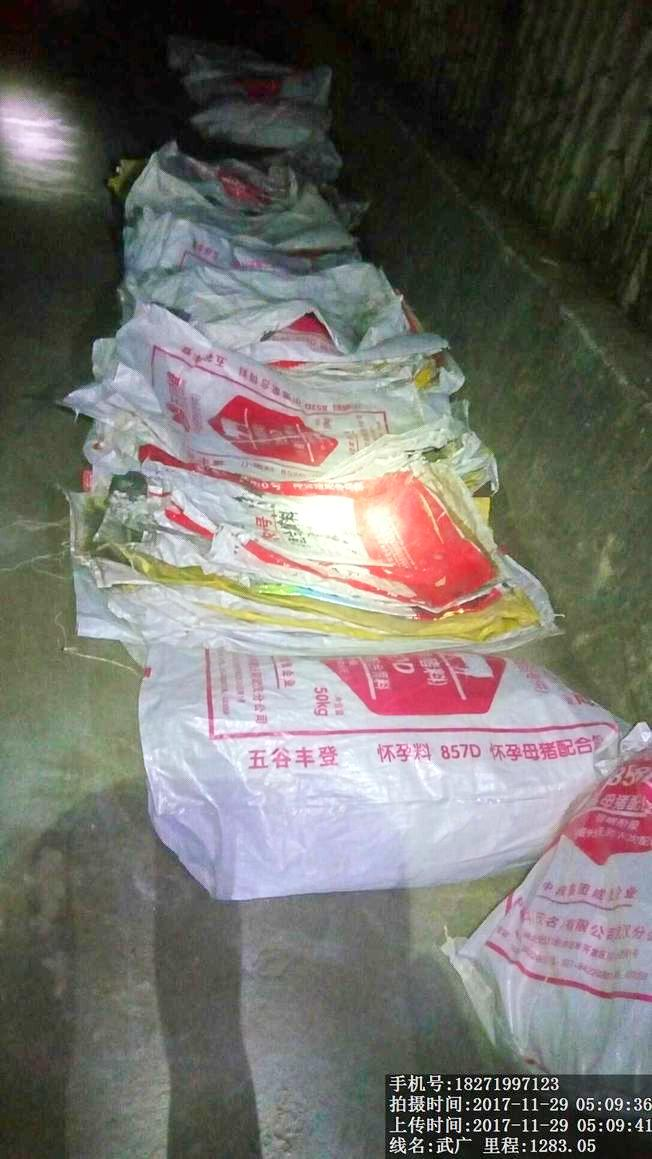BZD: (46, 449, 578, 657), (68, 301, 507, 453)
